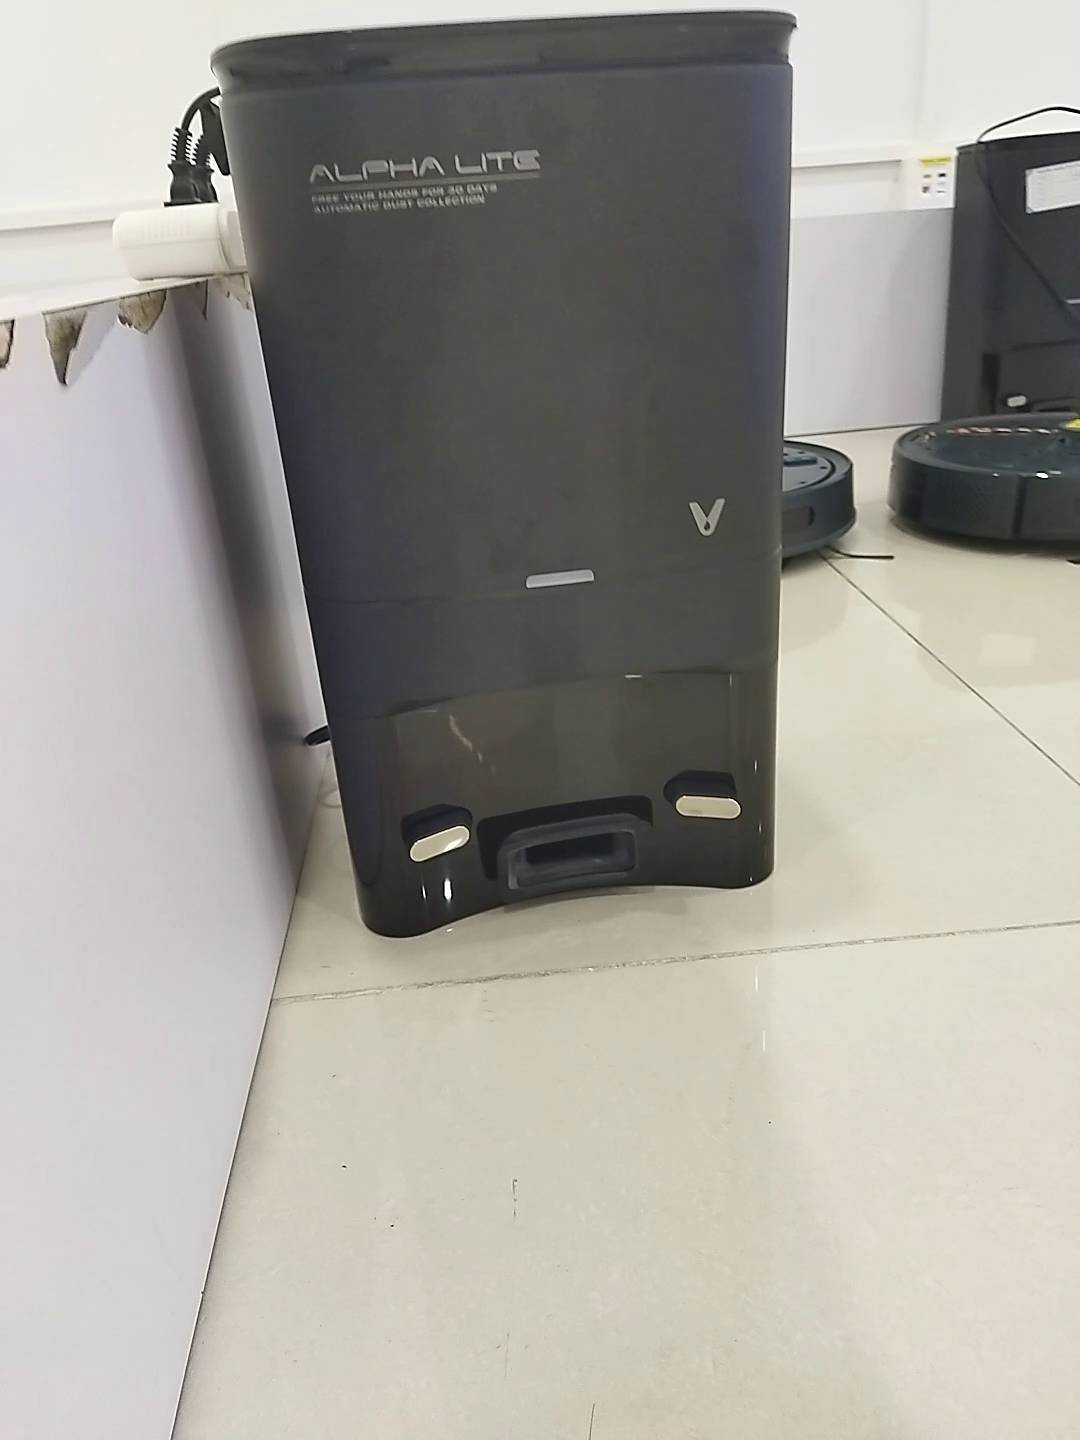dust collecting barrel: (212, 10, 799, 940)
